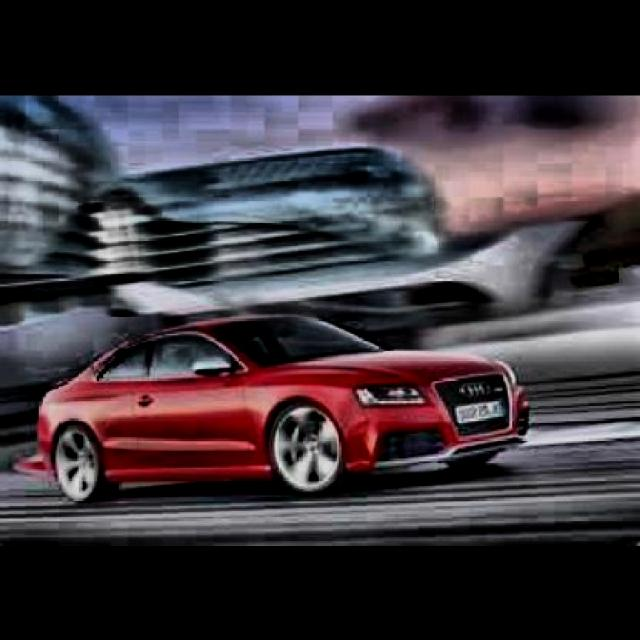red: (0, 297, 534, 494)
